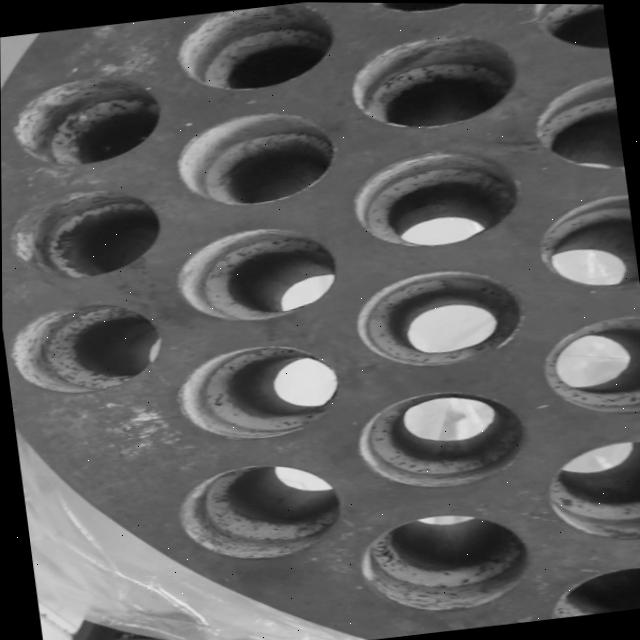Hole: (354, 504, 533, 620), (351, 381, 531, 496), (350, 260, 528, 375), (346, 141, 523, 255), (171, 455, 346, 568), (345, 26, 522, 136), (169, 217, 342, 328), (170, 336, 343, 447), (170, 104, 339, 212), (2, 296, 166, 401), (5, 181, 166, 286), (7, 69, 167, 173), (170, 1, 339, 98), (532, 192, 639, 298), (541, 434, 640, 548), (537, 312, 640, 421), (529, 75, 625, 179), (543, 559, 640, 619), (529, 3, 608, 57), (350, 2, 517, 19)
